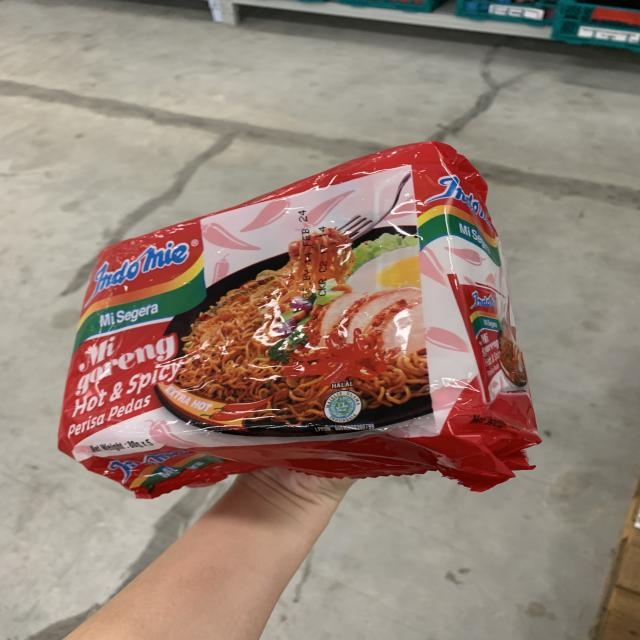object_name: (74, 195, 509, 477)
